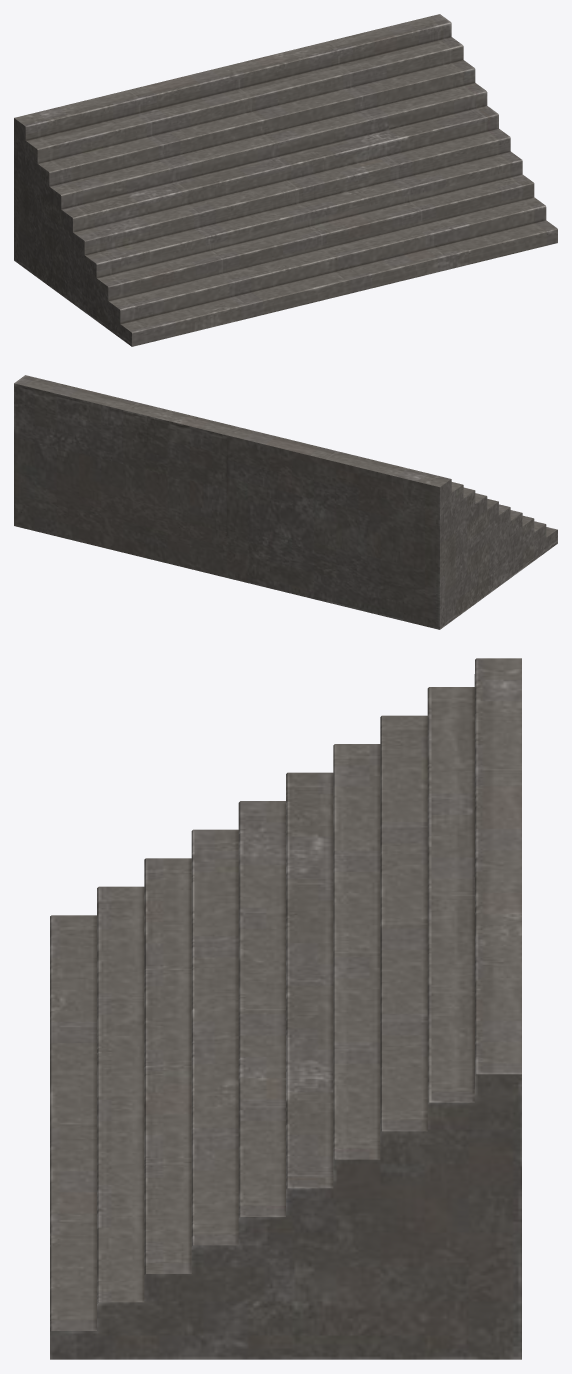
The model's file is SM_Stairs_10.glb.
3 views of the same model, one above another, from view 1: azimuth 30°, elevation 25°; view 2: azimuth 150°, elevation 25°; view 3: azimuth 270°, elevation 25° (orthographic). The views are drawn at different scales.
Parts seen in each view (by area): view 1: SM_Stairs_10; view 2: SM_Stairs_10; view 3: SM_Stairs_10.
Part boxes in pixels (x1=…): SM_Stairs_10: x1=14, y1=14, x2=557, y2=346; SM_Stairs_10: x1=14, y1=375, x2=557, y2=629; SM_Stairs_10: x1=50, y1=658, x2=521, y2=1359.
Bounding box in the file's own units: 6.25 × 2 × 3.
Materials: 1 (1 with a texture image).
